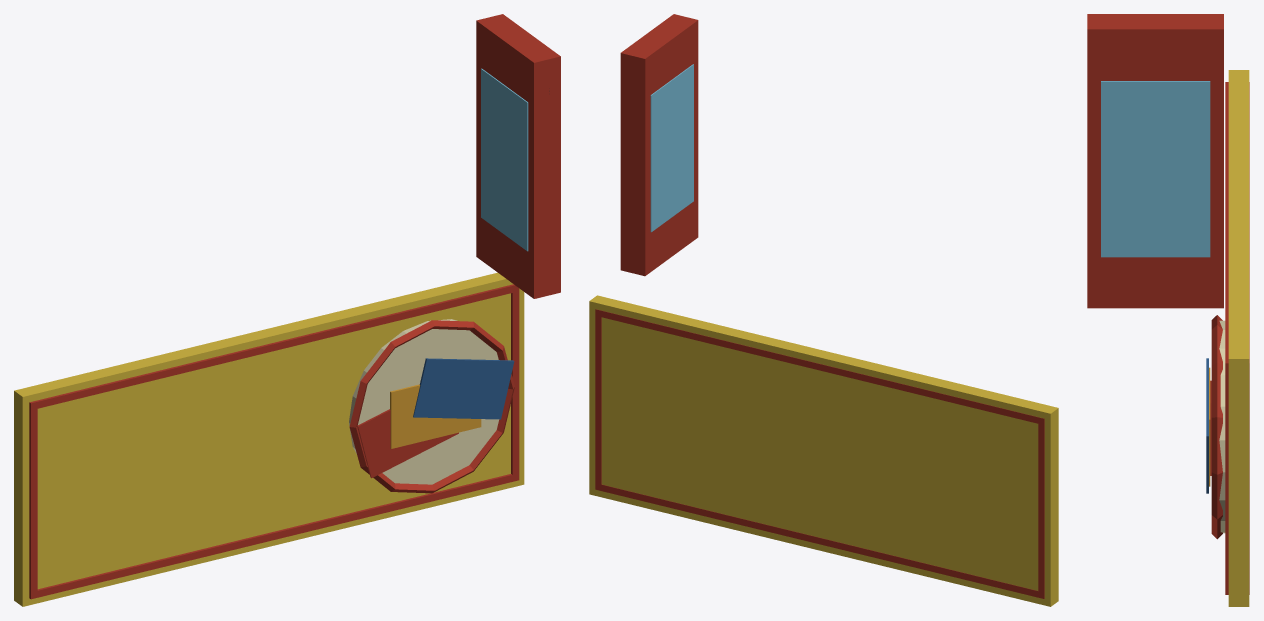
File: bang_dien_thoai_kim_ngan_32.glb
3 views of the same model, side by side, from view 1: azimuth 30°, elevation 25°; view 2: azimuth 150°, elevation 25°; view 3: azimuth 270°, elevation 25° (orthographic). The views are drawn at different scales.
Visible parts, largest first — view 1: bang_dien_thoai_kim_ngan_32; view 2: bang_dien_thoai_kim_ngan_32; view 3: bang_dien_thoai_kim_ngan_32.
Part boxes in pixels (box(x1,y1,x2,y2)): bang_dien_thoai_kim_ngan_32: box(14, 14, 560, 606); bang_dien_thoai_kim_ngan_32: box(589, 14, 1058, 606); bang_dien_thoai_kim_ngan_32: box(1087, 14, 1249, 606).
Bounding box in the file's own units: 3 × 2.73 × 0.712.
